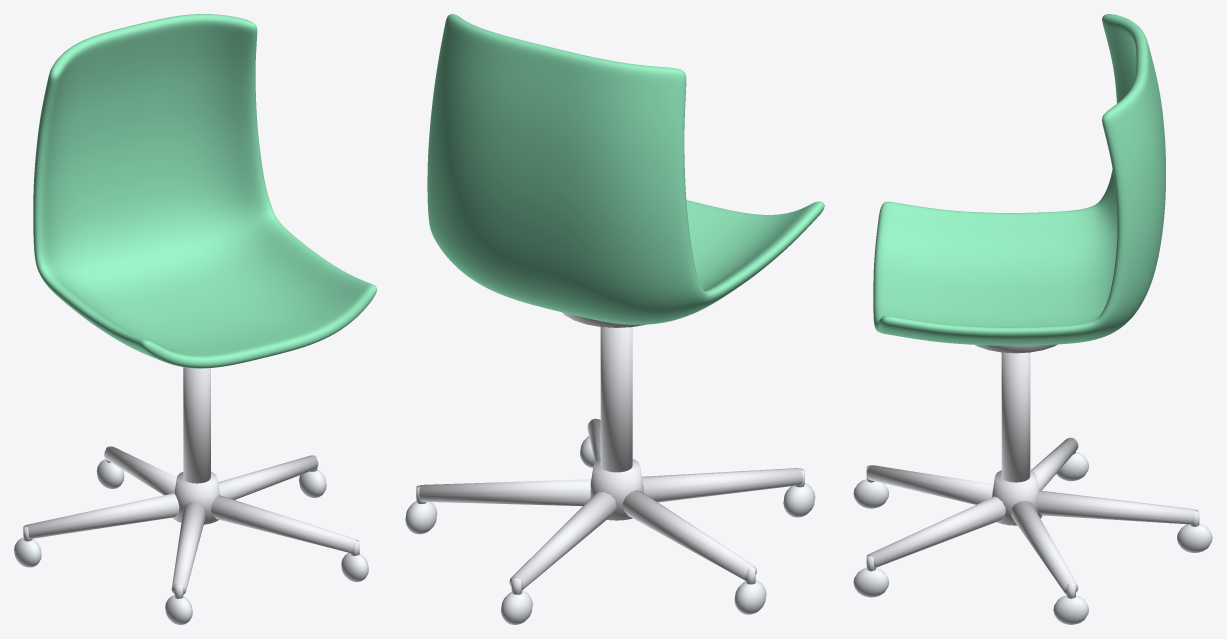
Rendered from office_chair.glb.
3 renders of one model, left to right at view 1: azimuth 30°, elevation 25°; view 2: azimuth 150°, elevation 25°; view 3: azimuth 270°, elevation 25°, orthographic. The views are drawn at different scales.
Parts seen in each view (by area): view 1: OfficeChair; view 2: OfficeChair; view 3: OfficeChair.
Boxes of the visible parts, x1,y1,x2,y2 form: OfficeChair: (14, 14, 376, 624); OfficeChair: (405, 14, 824, 624); OfficeChair: (853, 14, 1212, 624).
Size of the model in its own units: 0.6146 by 0.9194 by 0.6027.
